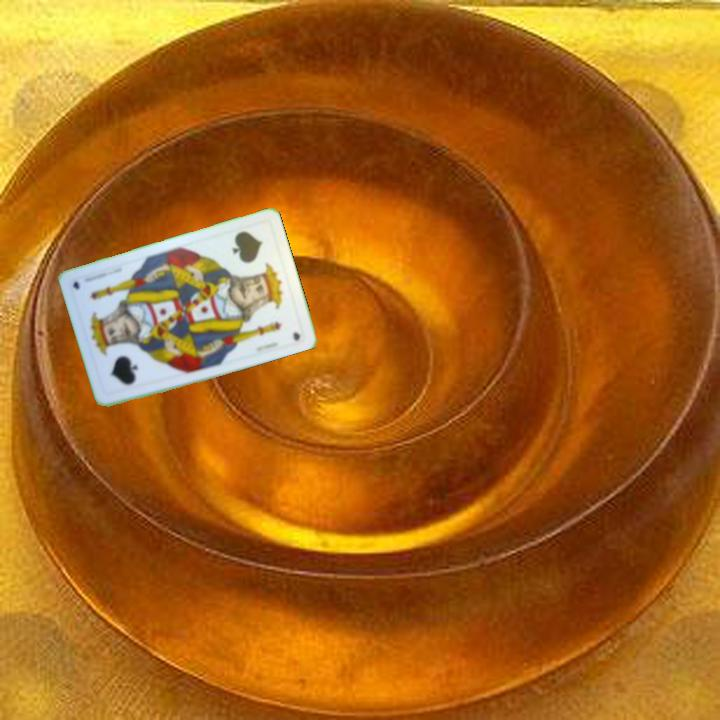s_k.png: (86, 321, 160, 400), (215, 218, 289, 297)
